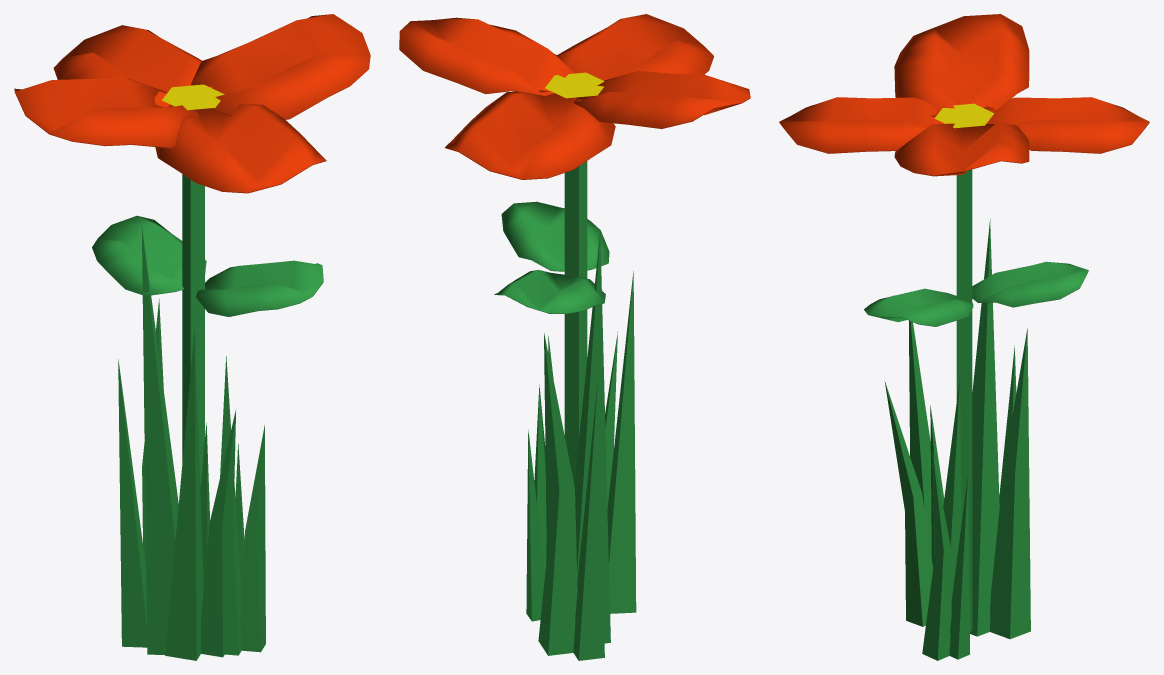
File: Flower2.fbx
3 renders of one model, left to right at view 1: azimuth 30°, elevation 25°; view 2: azimuth 150°, elevation 25°; view 3: azimuth 270°, elevation 25°, orthographic. The views are drawn at different scales.
Parts seen in each view (by area): view 1: Flower2; view 2: Flower2; view 3: Flower2.
Boxes of the visible parts, x1,y1,x2,y2 form: Flower2: [14, 14, 370, 660]; Flower2: [399, 14, 750, 660]; Flower2: [779, 14, 1149, 660].
Size of the model in its own units: 261 by 433 by 264.
